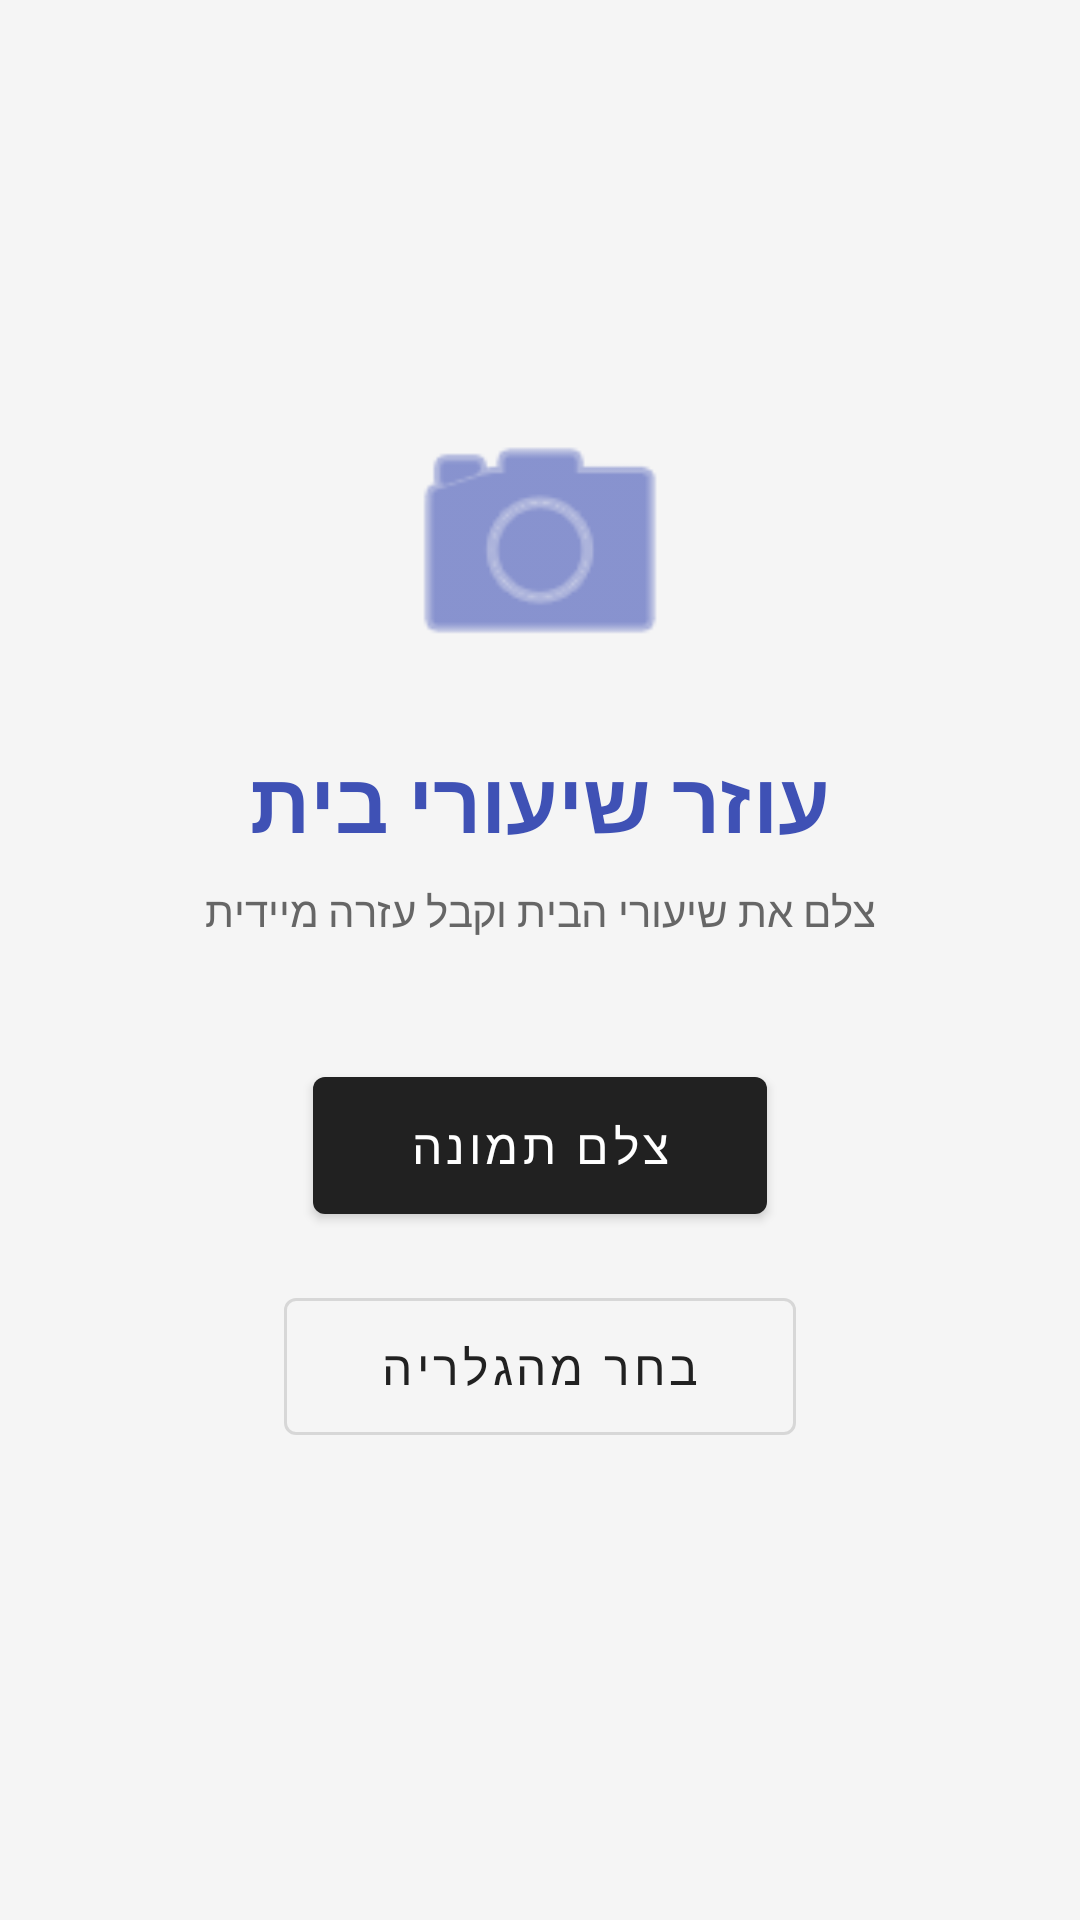

Icons on this 1080 x 1920 Android screen, each with the point to tap as (x=x, y=y):
camera: (x=540, y=540)
